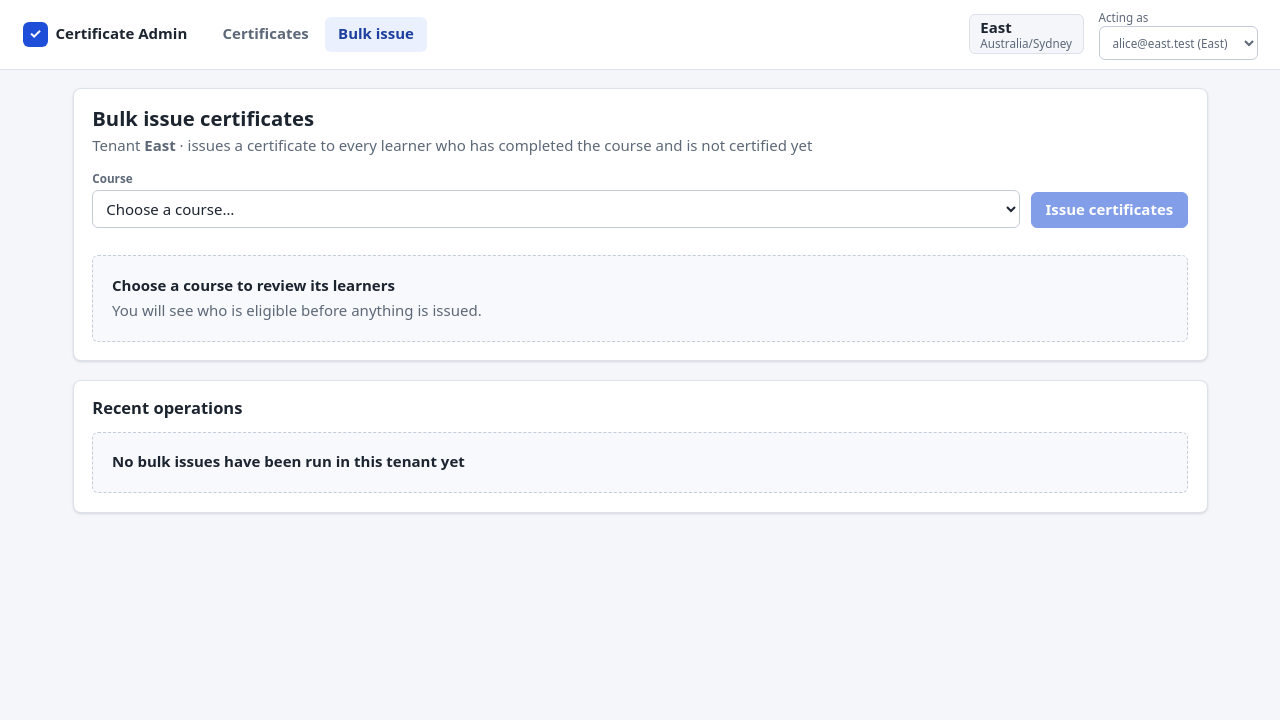
Bulk issue: preview › shows the error state when the roster cannot be loaded and retries
This screenshot has width=1280, height=720.
Check: the heading "Bulk issue certificates" is shown, box [92, 104, 314, 132]
Select "Safety 101" in the dropdown with test id "course-select" at (556,209), box [92, 190, 1020, 228]
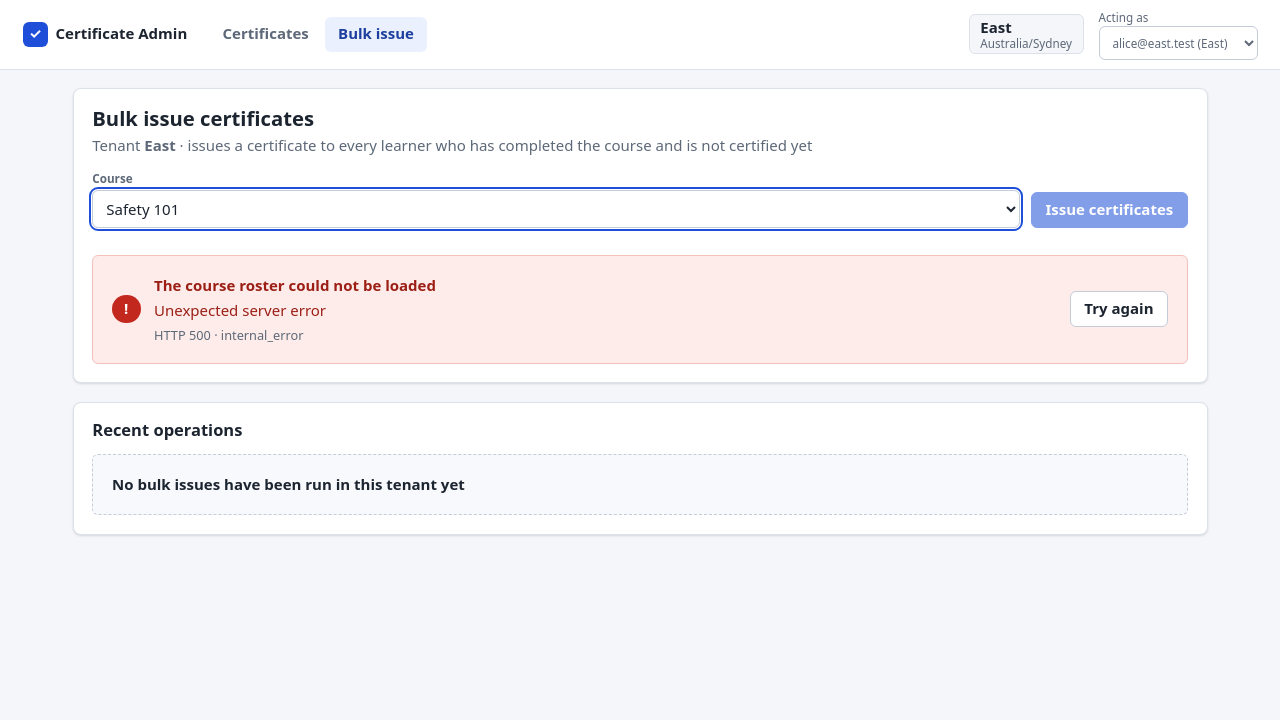
Check: the button with test id "issue-button" is disabled, box [1031, 192, 1188, 228]
Check: the message shows "The course roster could not be loaded", box [154, 274, 436, 294]
Click the button "Try again".
click(1119, 309)  # box [1070, 291, 1168, 327]
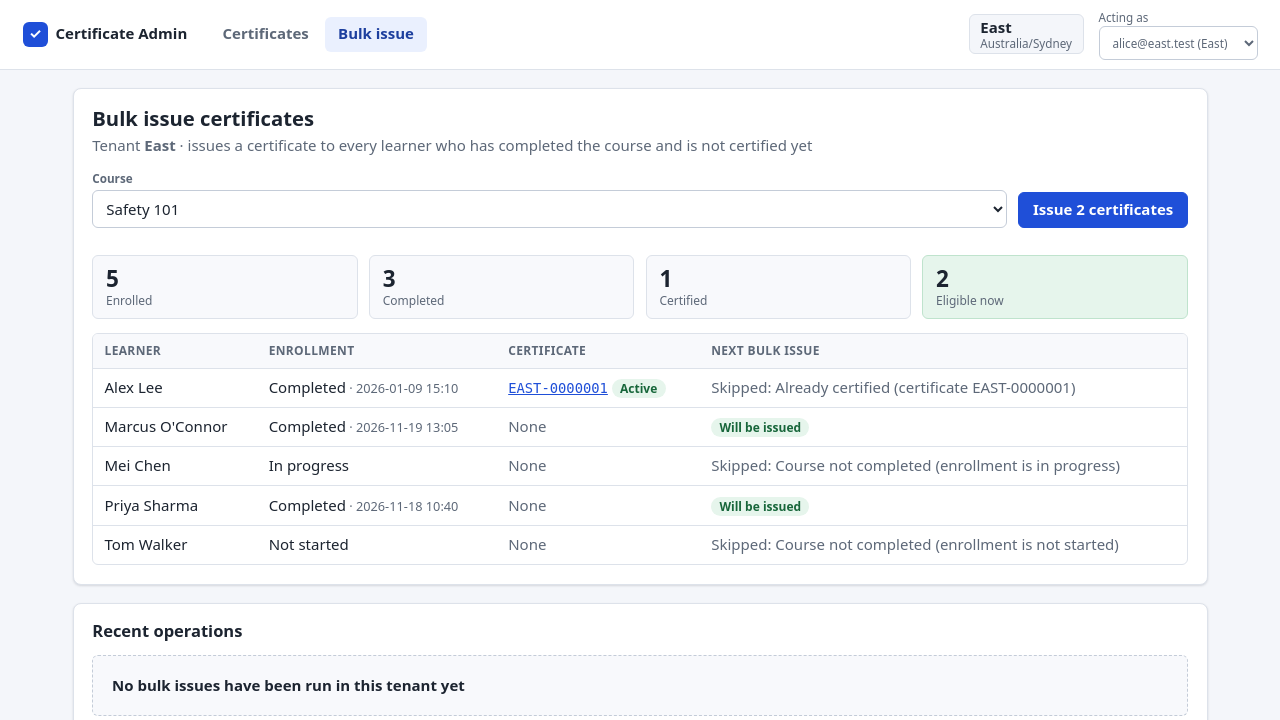
Check: the element with test id "roster-summary" is shown, box [92, 255, 1188, 319]
Check: the button with test id "issue-button" reads "Issue 2 certificates", box [1018, 192, 1188, 228]
